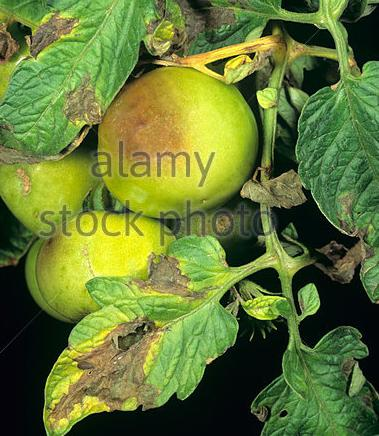Tomato leaf late blight: (38, 242, 253, 436), (0, 0, 176, 165), (289, 43, 379, 311)
